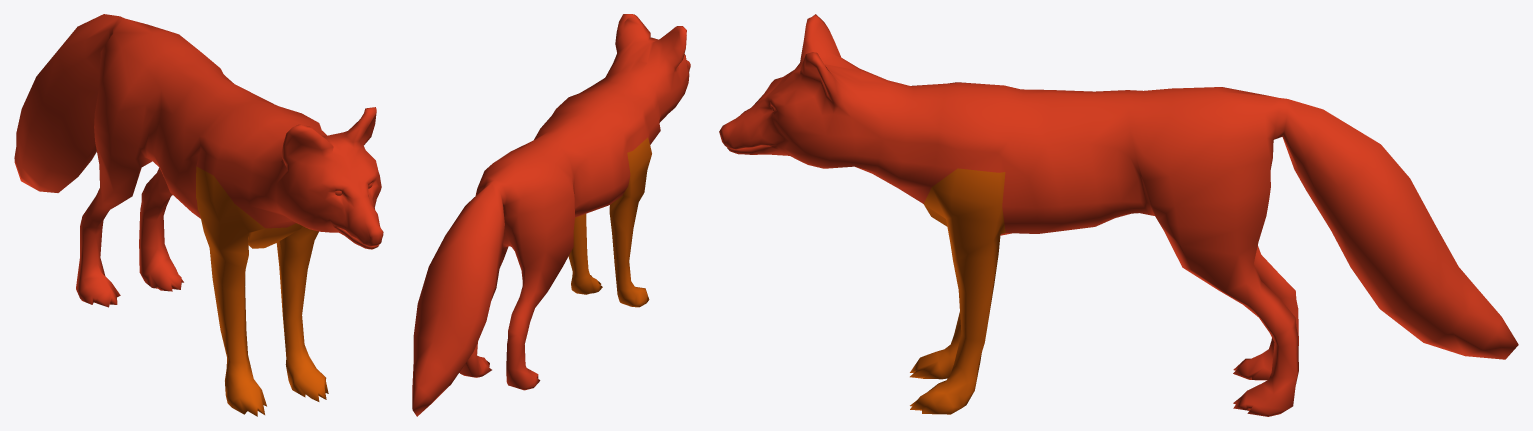
File: foxM.FBX
3 renders of one model, left to right at view 1: azimuth 30°, elevation 25°; view 2: azimuth 150°, elevation 25°; view 3: azimuth 270°, elevation 25°, orthographic. The views are drawn at different scales.
Visible parts, largest first — view 1: Object003; view 2: Object003; view 3: Object003.
Boxes of the visible parts, x1,y1,x2,y2 form: Object003: [14, 14, 383, 416]; Object003: [412, 14, 690, 416]; Object003: [719, 14, 1518, 416].
Bounding box in the file's own units: 346 × 904 × 1829.
